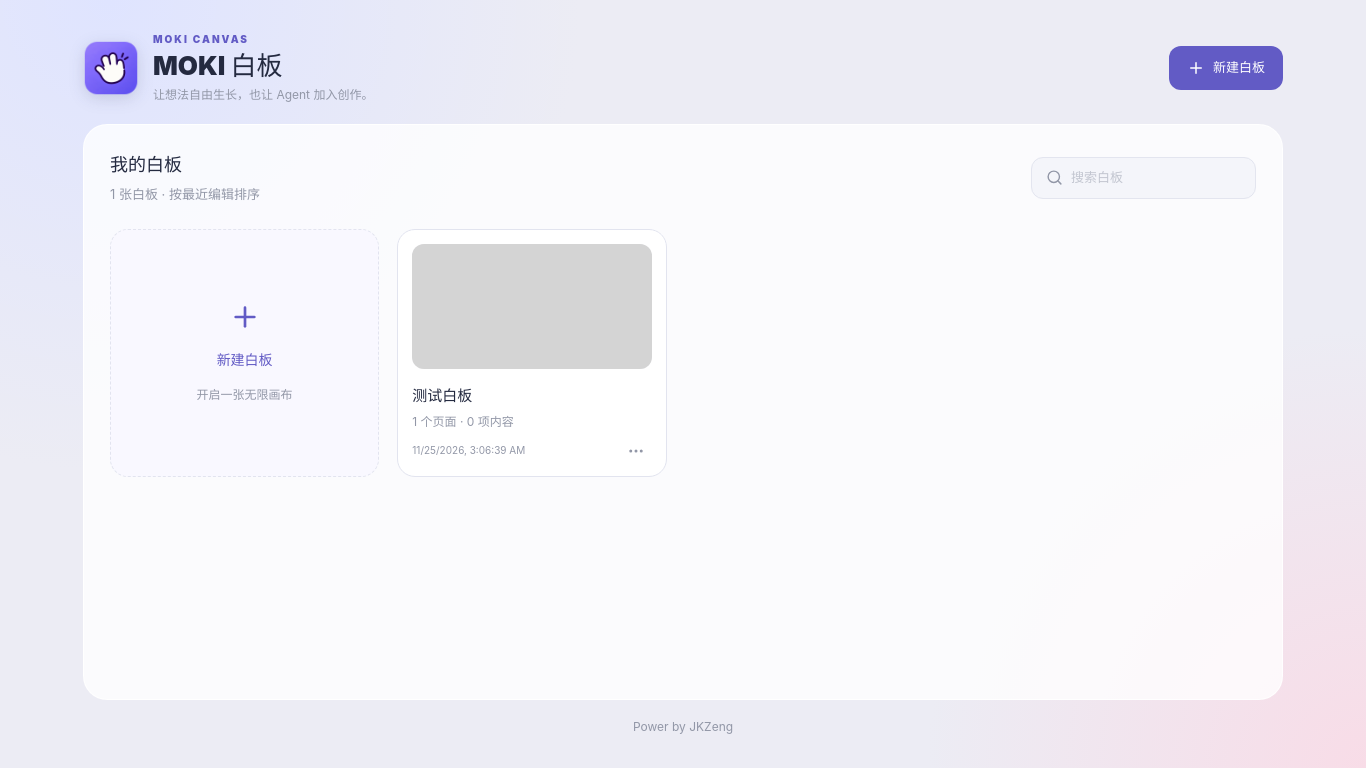
Scenario: 白板管理表单 › 更多菜单支持键盘导航、共享和关闭，操作不打开白板
Click the button named "更多操作 测试白板": (636, 450) [620,439,652,462]
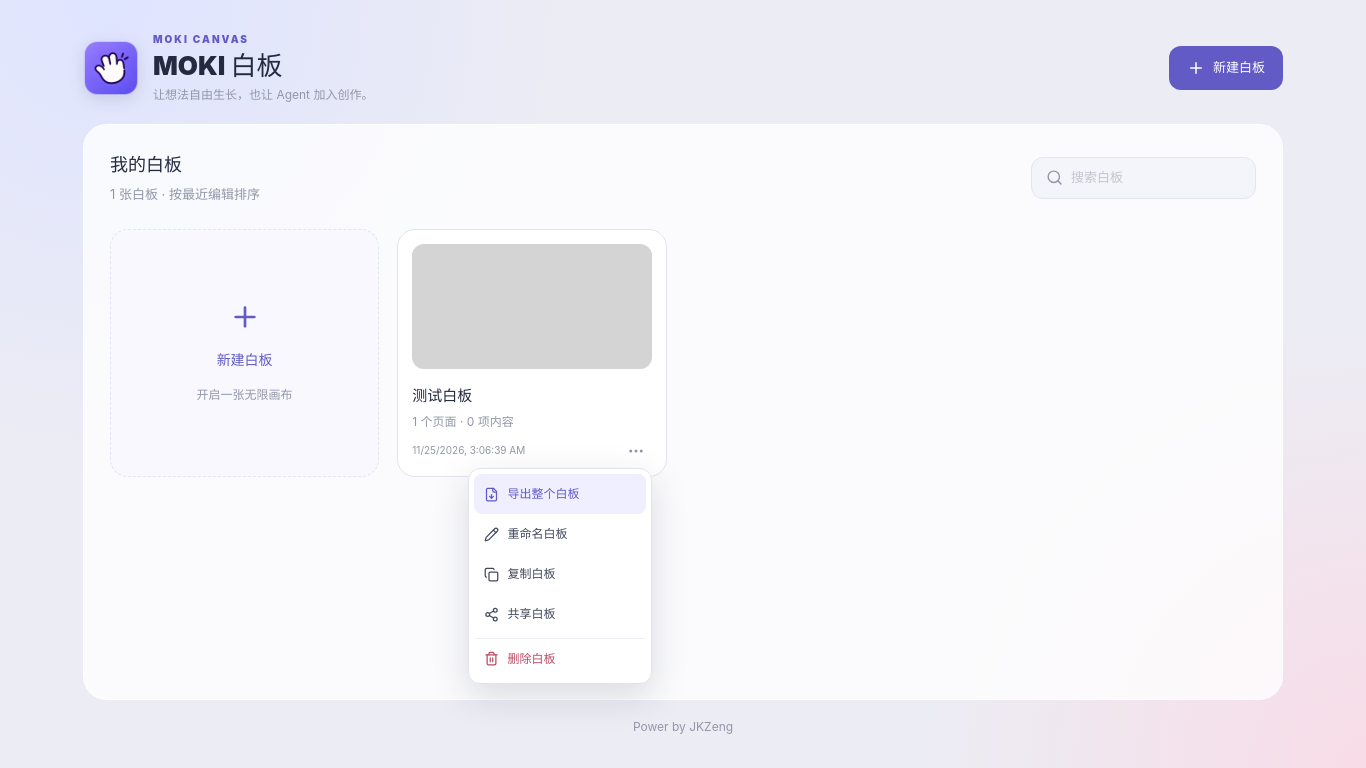
Press End in the menu item with aria-label "导出 测试白板", box [474,474,646,514]
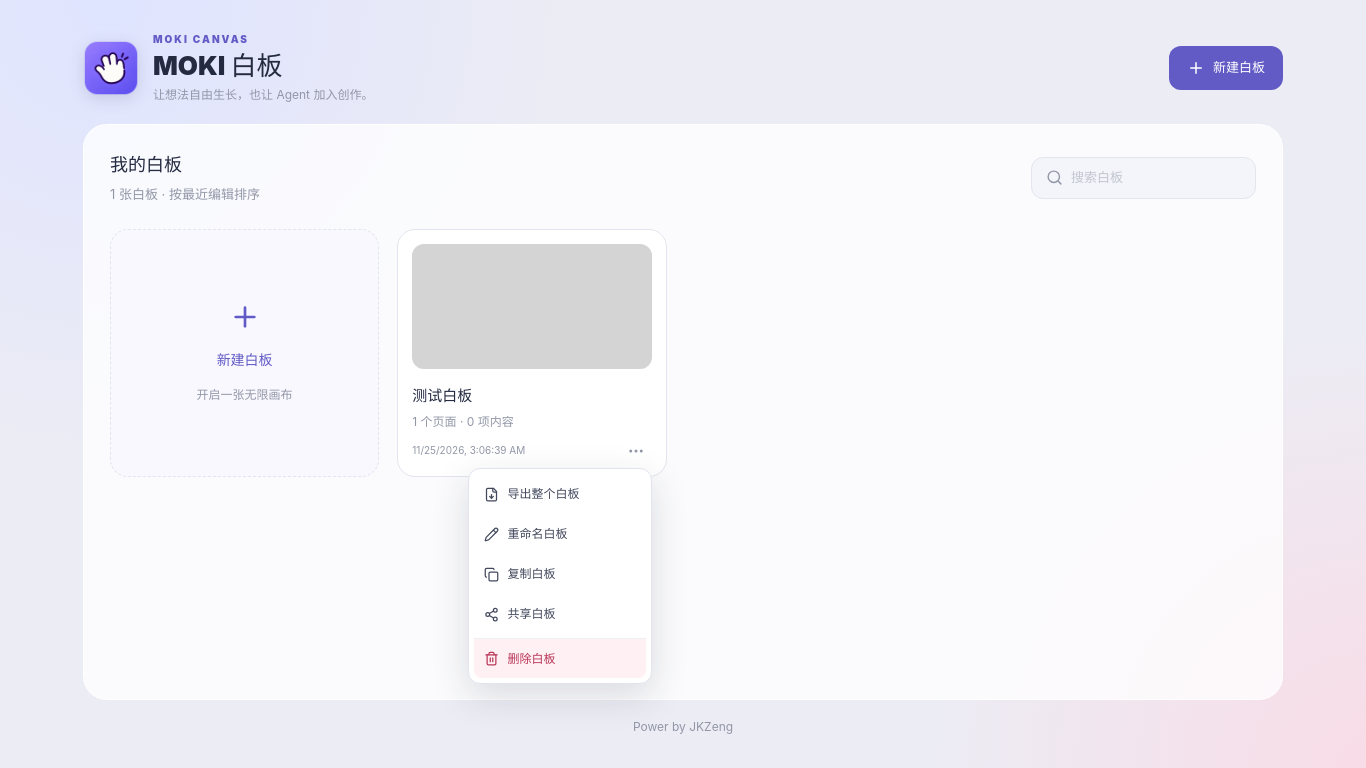
Press Escape in the menu item with aria-label "删除 测试白板", box [474,638,646,678]
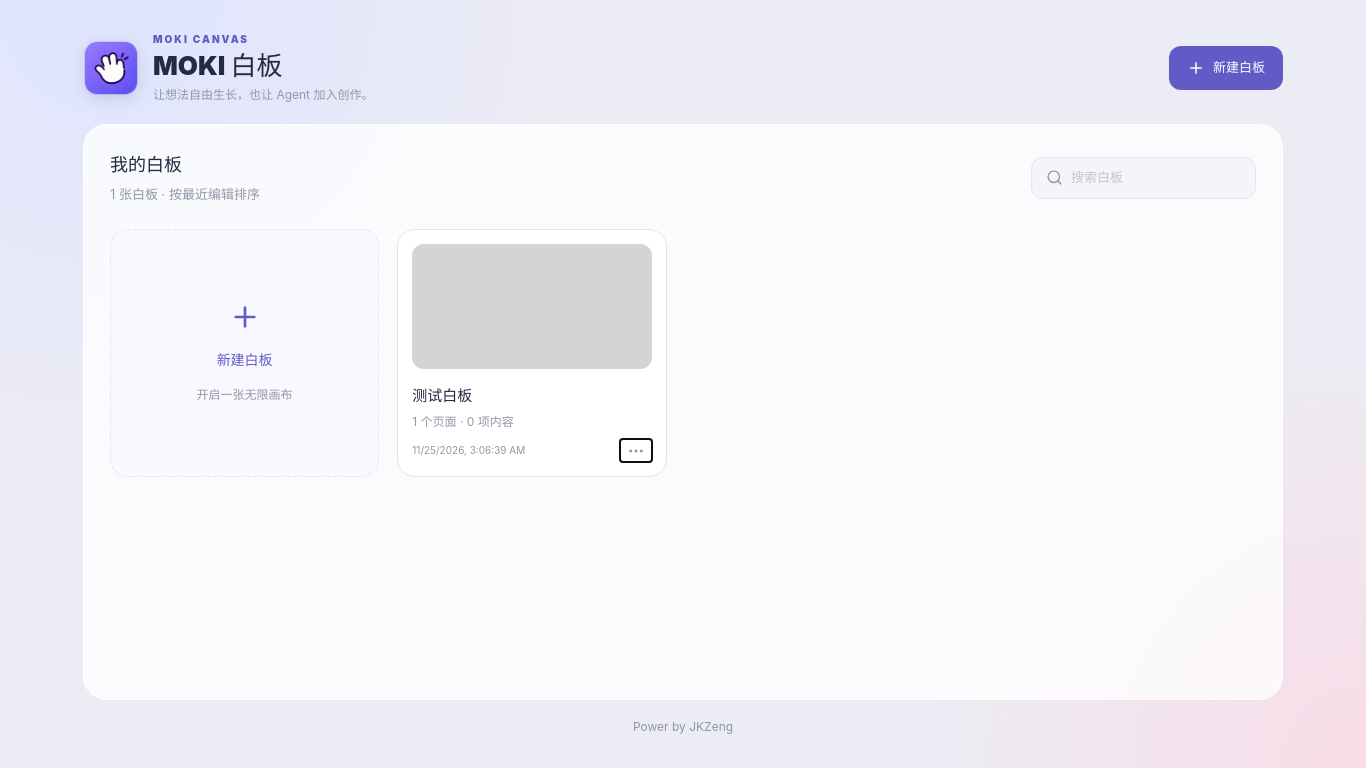
Expected: the menu is gone
Click the button named "更多操作 测试白板": (636, 450) [620,439,652,462]
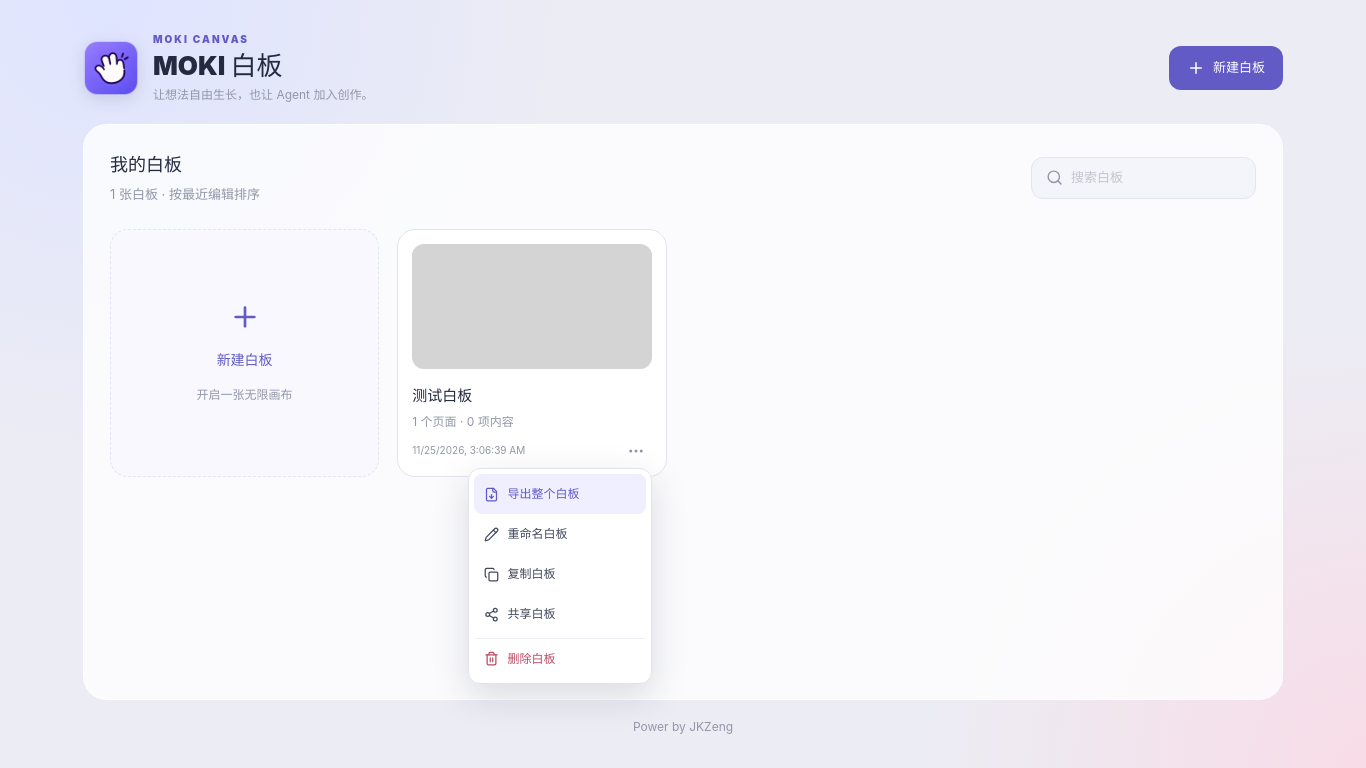
Click the menu item with aria-label "共享 测试白板": (560, 614) [474,594,646,634]
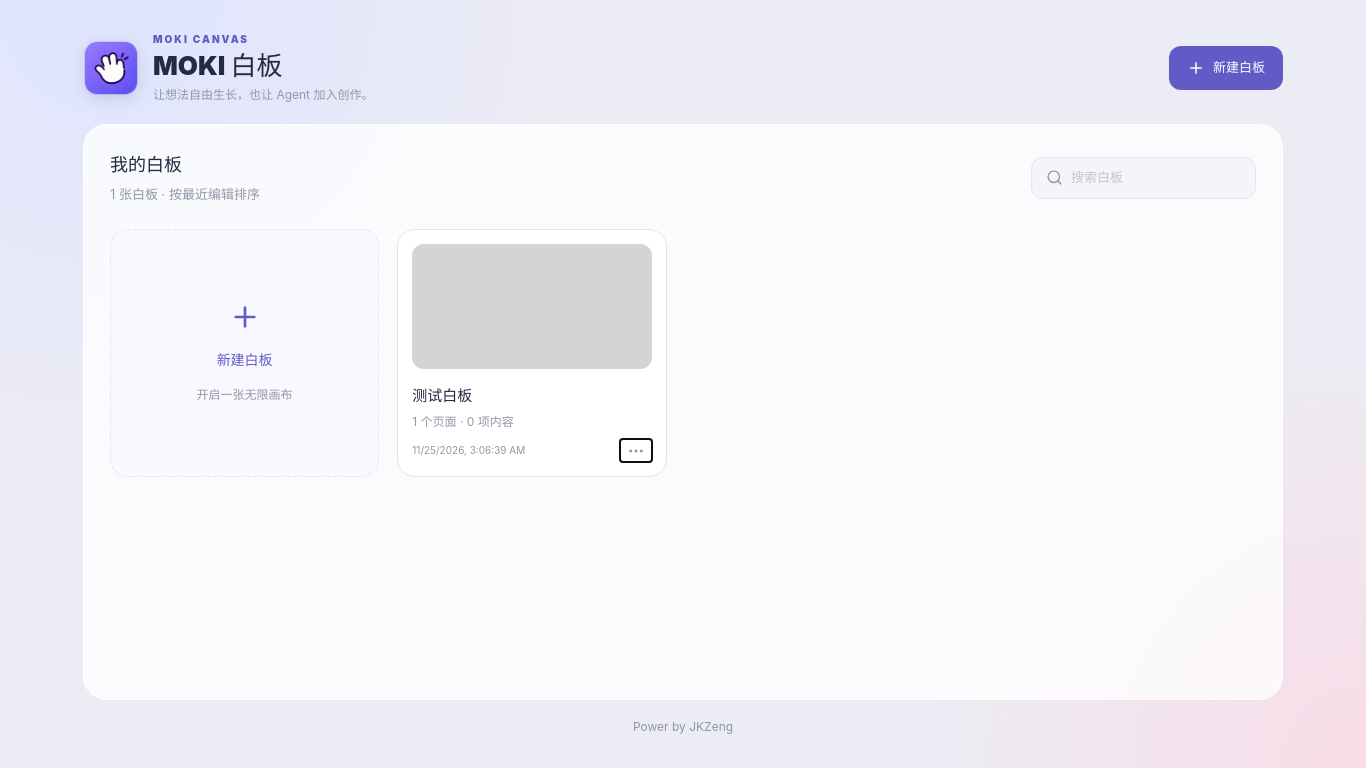
Expected: the menu is gone
